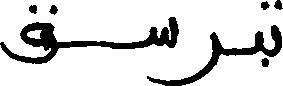X: (0, 0, 56, 68), (178, 24, 218, 85), (150, 12, 176, 85), (272, 0, 282, 61), (256, 0, 261, 66)
